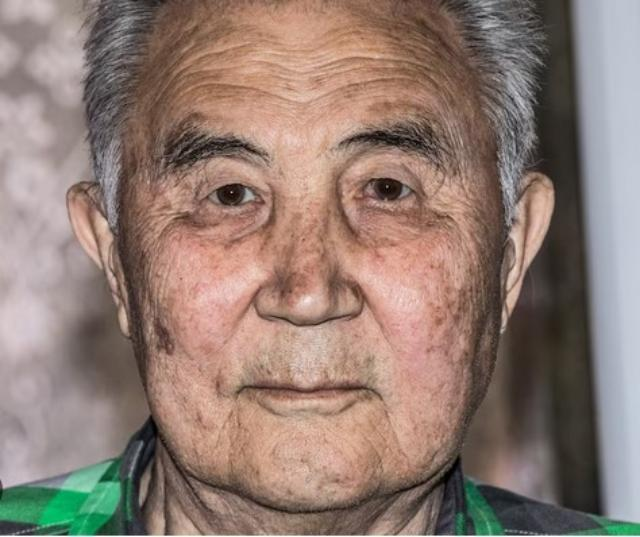chin: (369, 439, 391, 484), (218, 404, 238, 446)
crows_feet: (419, 180, 463, 226), (146, 194, 190, 228)
forehead: (373, 46, 437, 90), (169, 31, 213, 87), (328, 49, 366, 93), (228, 72, 268, 104), (262, 44, 306, 72), (282, 82, 318, 112)
